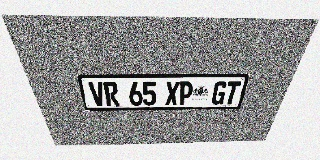5: (142, 82, 156, 106)
6: (128, 82, 143, 106)
G: (211, 81, 228, 105)
P: (178, 81, 193, 105)
R: (103, 82, 120, 106)
T: (223, 81, 242, 105)
V: (88, 82, 106, 106)
X: (165, 82, 180, 105)
